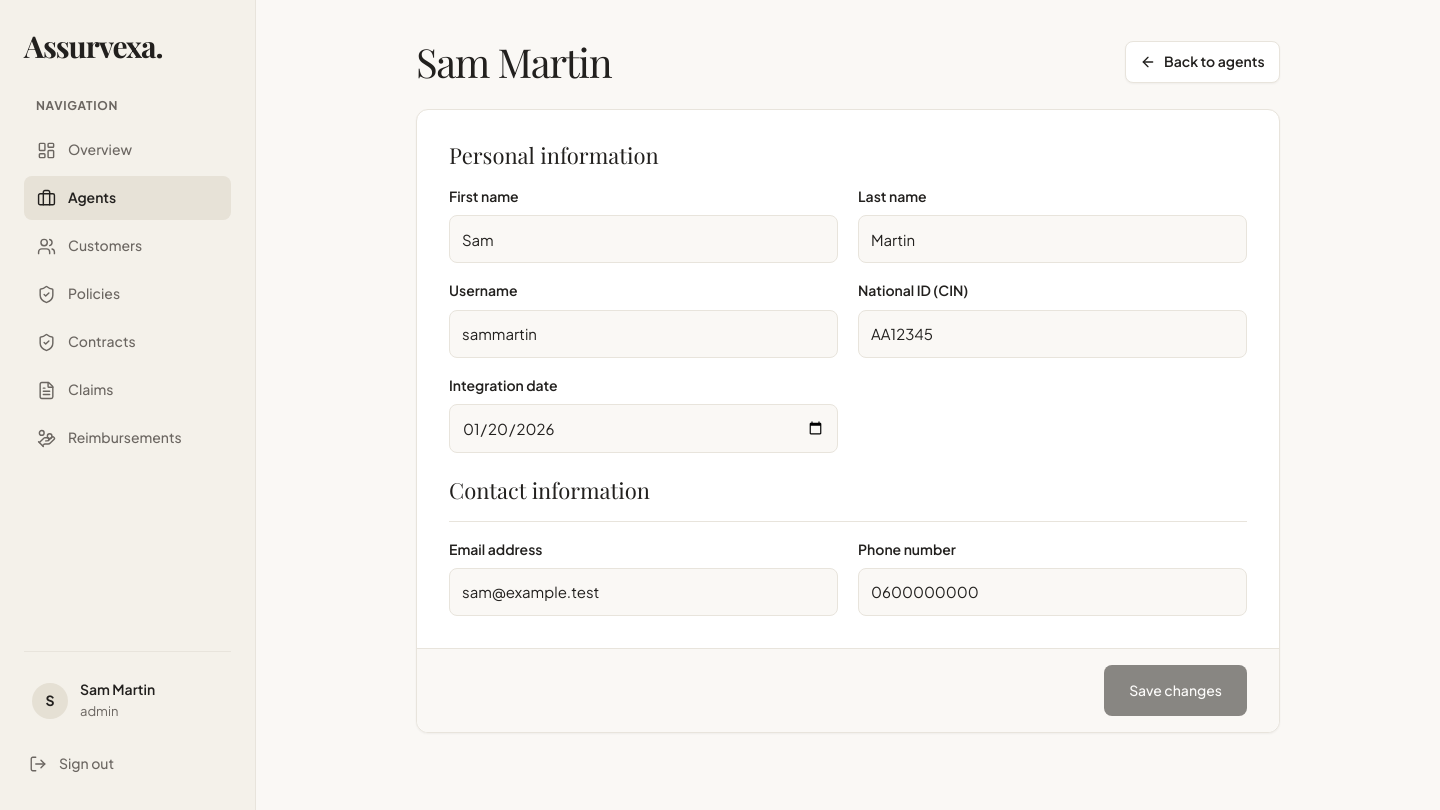
Test: an administrator can edit an agent on the agent profile page
The image size is (1440, 810).
Check: the date field labelled "Integration date" holds "2026-01-20", box x1=449 y1=404 x2=838 y2=453
Replace the text in the field labelled "First name" with "Samuel": (644, 240) x1=449 y1=216 x2=838 y2=264
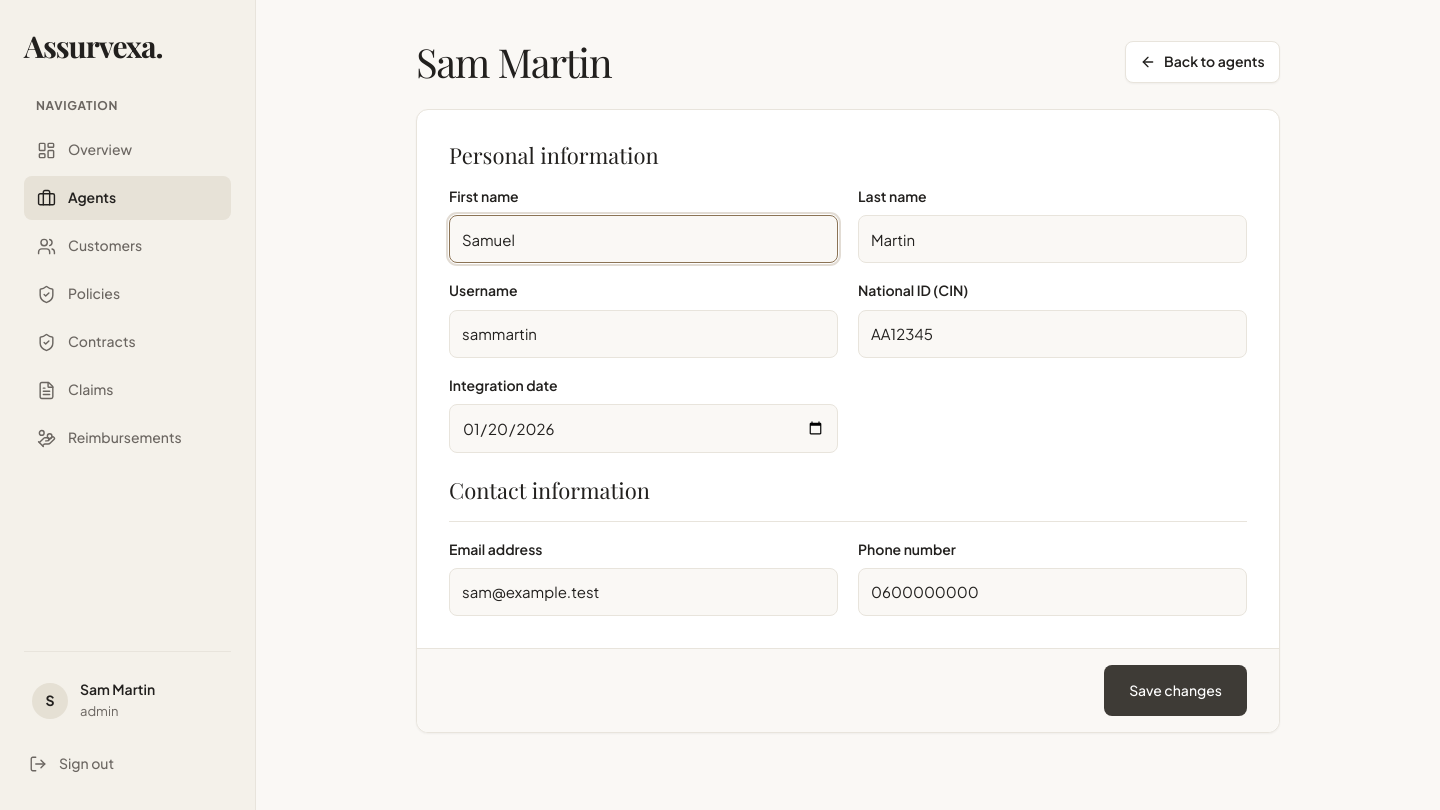
Click the button "Save changes": (1176, 691) x1=1104 y1=665 x2=1247 y2=716
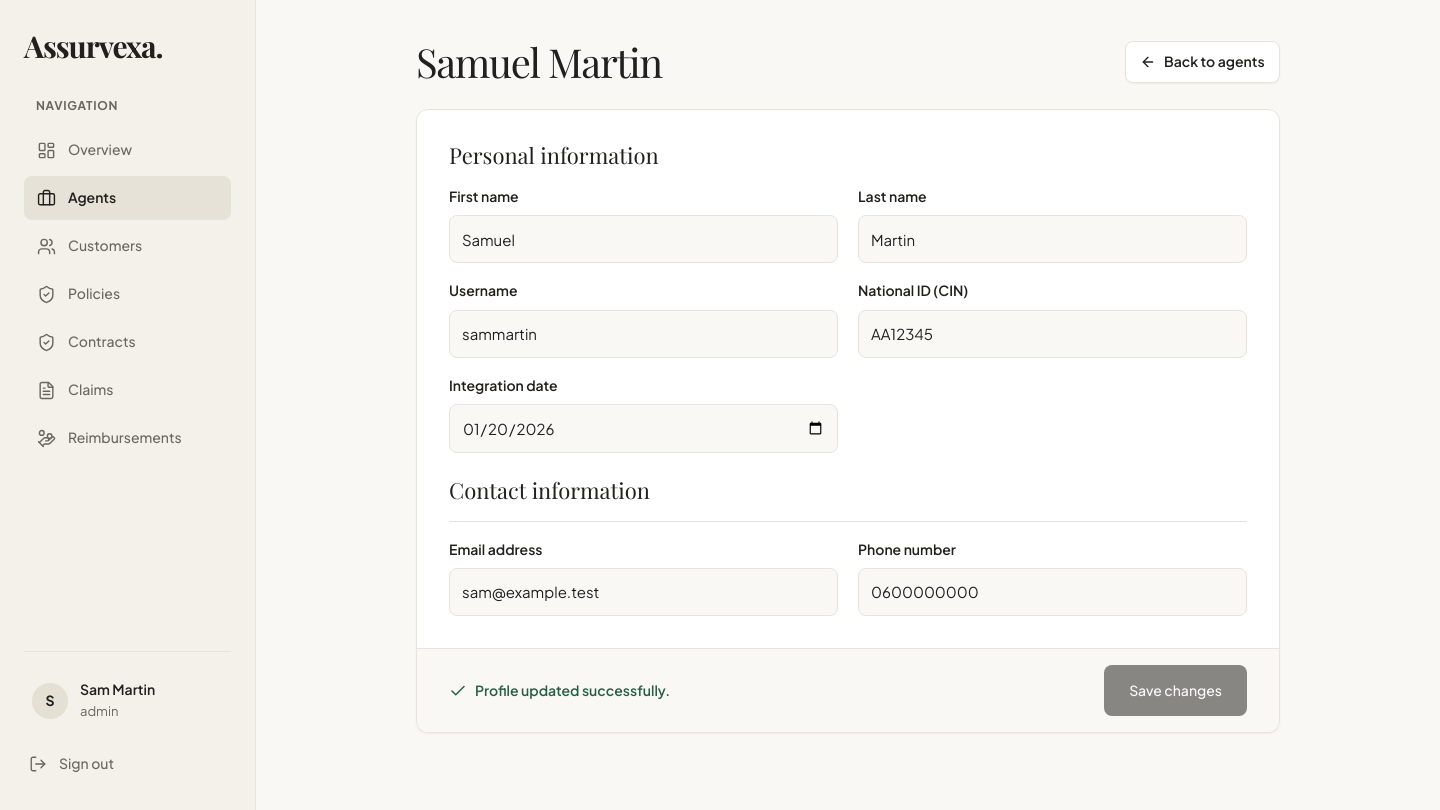
Check: the message reads "Profile updated successfully.", box x1=475 y1=681 x2=670 y2=699
Check: the heading "Samuel Martin" is shown, box x1=416 y1=40 x2=662 y2=85
